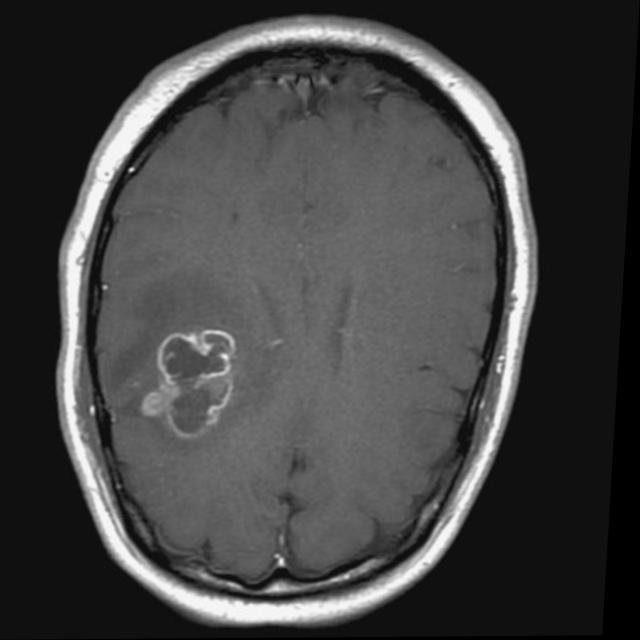Tumor: (150, 331, 240, 434)
